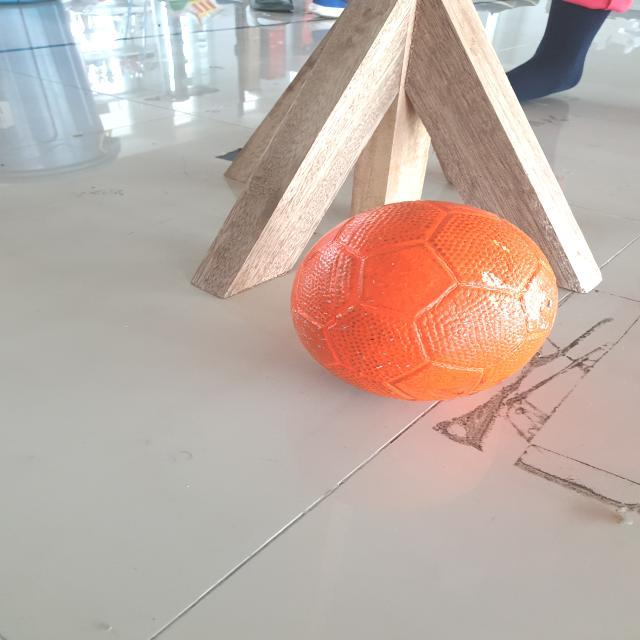bola: (277, 193, 568, 411)
